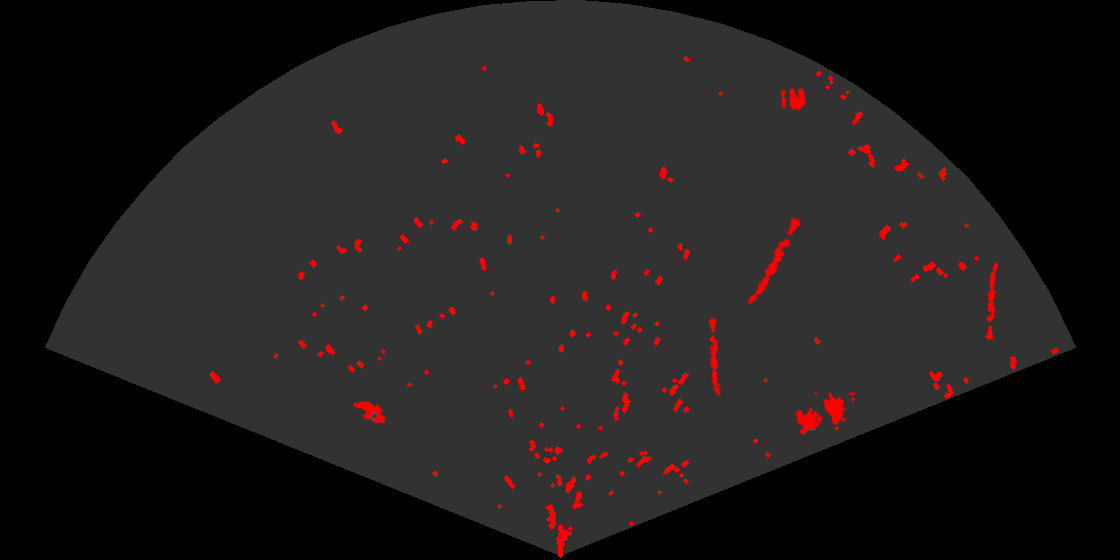AUV: (351, 399, 388, 426)
ball: (779, 86, 807, 112)
cage: (793, 392, 855, 432)
chain: (746, 212, 804, 306), (983, 260, 1000, 340), (706, 316, 722, 396)
